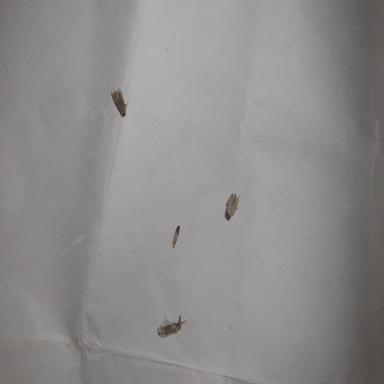pbw: (110, 87, 129, 118), (157, 319, 187, 337), (223, 192, 240, 221)
